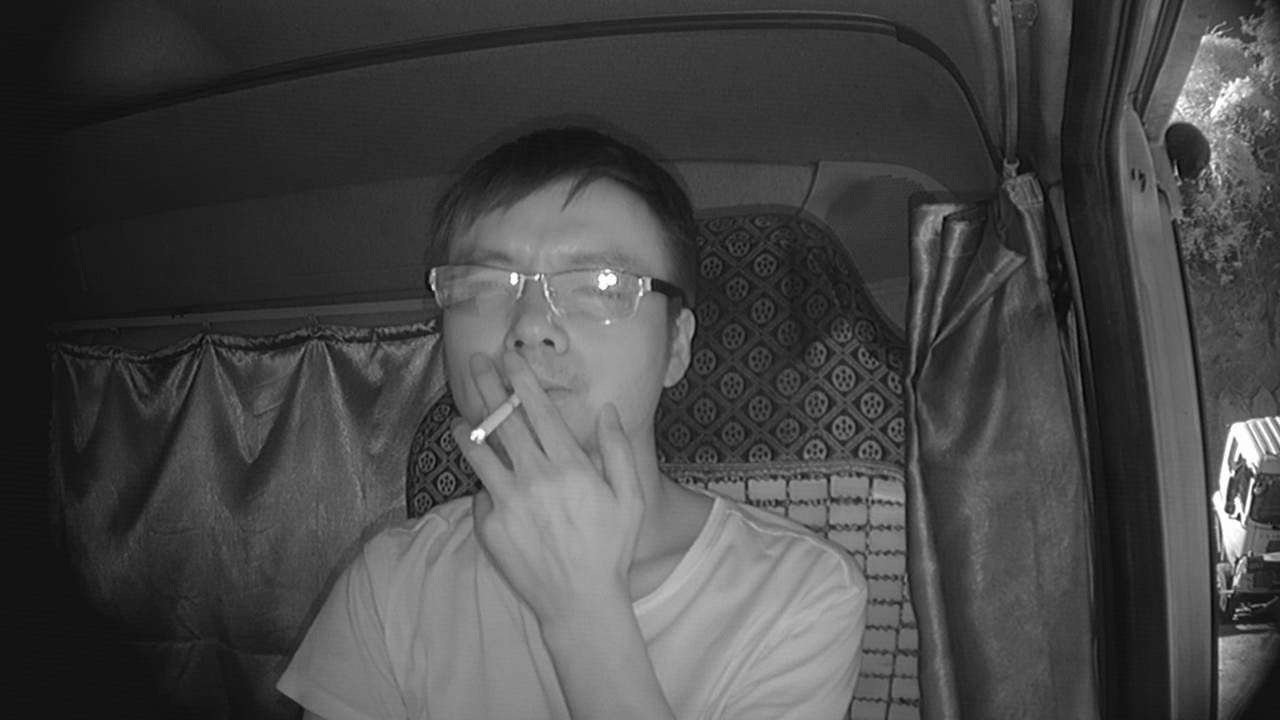hand: (457, 357, 630, 558)
